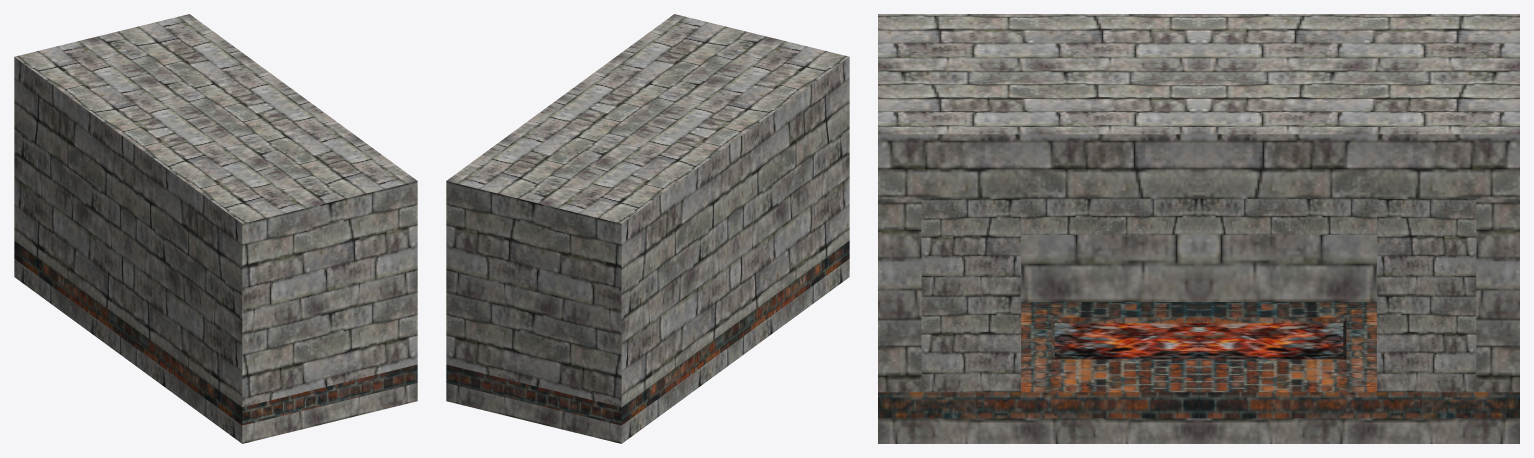
The model's file is chimney.fbx.
3 renders of one model, left to right at view 1: azimuth 30°, elevation 25°; view 2: azimuth 150°, elevation 25°; view 3: azimuth 270°, elevation 25°, orthographic. The views are drawn at different scales.
Parts seen in each view (by area): view 1: Cube; view 2: Cube; view 3: Cube.
Boxes of the visible parts, x1=… form: Cube: x1=14, y1=14, x2=417, y2=443; Cube: x1=446, y1=14, x2=849, y2=443; Cube: x1=878, y1=14, x2=1519, y2=443.
Size of the model in its own units: 400 by 480 by 902.
